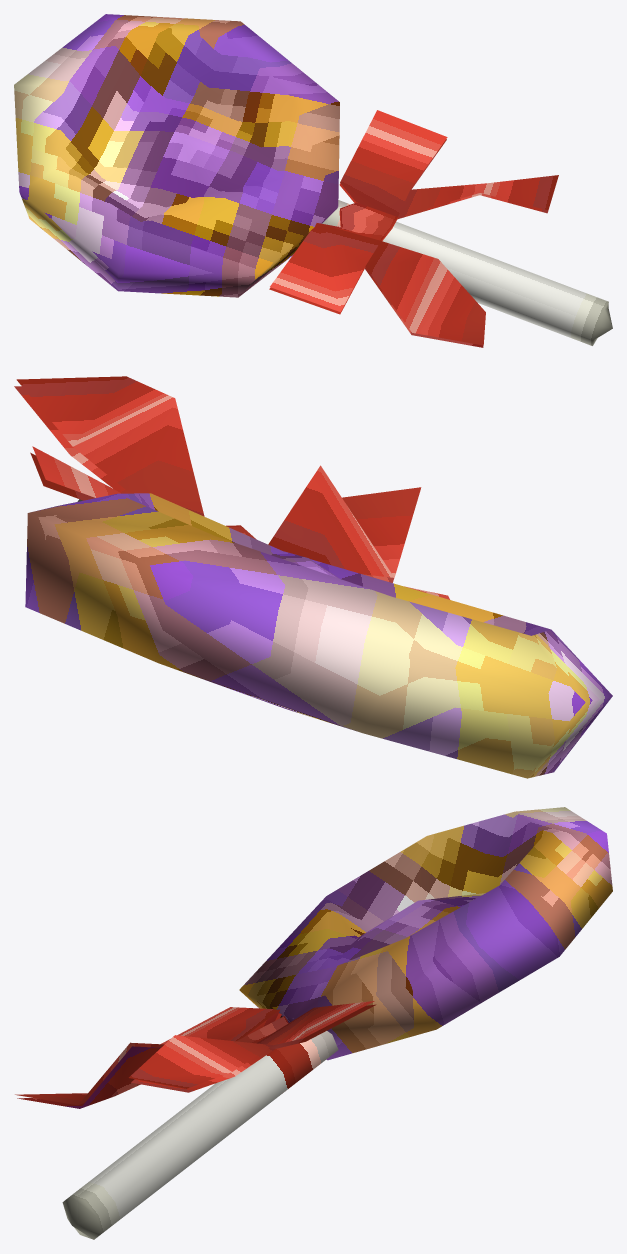
The model's file is fg_lollipop.dae.
3 renders of one model, top to bottom at view 1: azimuth 30°, elevation 25°; view 2: azimuth 150°, elevation 25°; view 3: azimuth 270°, elevation 25°, orthographic. The views are drawn at different scales.
Visible parts, largest first — view 1: fg_lollipop; view 2: fg_lollipop; view 3: fg_lollipop.
Part boxes in pixels (box(x1,y1,x2,y2)): fg_lollipop: box(14, 14, 612, 347); fg_lollipop: box(14, 376, 612, 778); fg_lollipop: box(15, 807, 612, 1239).
Size of the model in its own units: 17.58 by 8.71 by 18.2.
1 material, 1 textured.
